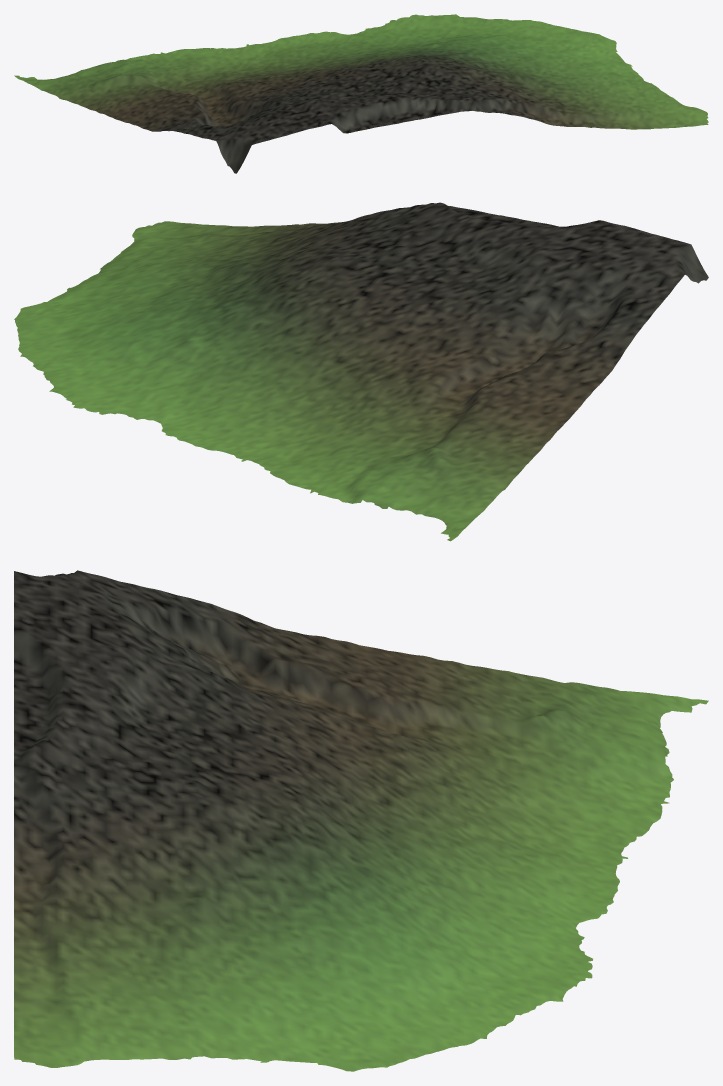
The model's file is lareunion-terrain-3.glb.
The picture shows the model from 3 angles, top to bottom: view 1: azimuth 30°, elevation 25°; view 2: azimuth 150°, elevation 25°; view 3: azimuth 270°, elevation 25°; orthographic projection. The views are drawn at different scales.
Parts seen in each view (by area): view 1: LaReunionRgeAltiTerrain_3; view 2: LaReunionRgeAltiTerrain_3; view 3: LaReunionRgeAltiTerrain_3.
Part boxes in pixels (left/top/right/bottom): LaReunionRgeAltiTerrain_3: left=14, top=14, right=708, bottom=173; LaReunionRgeAltiTerrain_3: left=14, top=202, right=708, bottom=541; LaReunionRgeAltiTerrain_3: left=14, top=570, right=708, bottom=1071.
Bounding box in the file's own units: 44.12 × 8.11 × 34.98.
